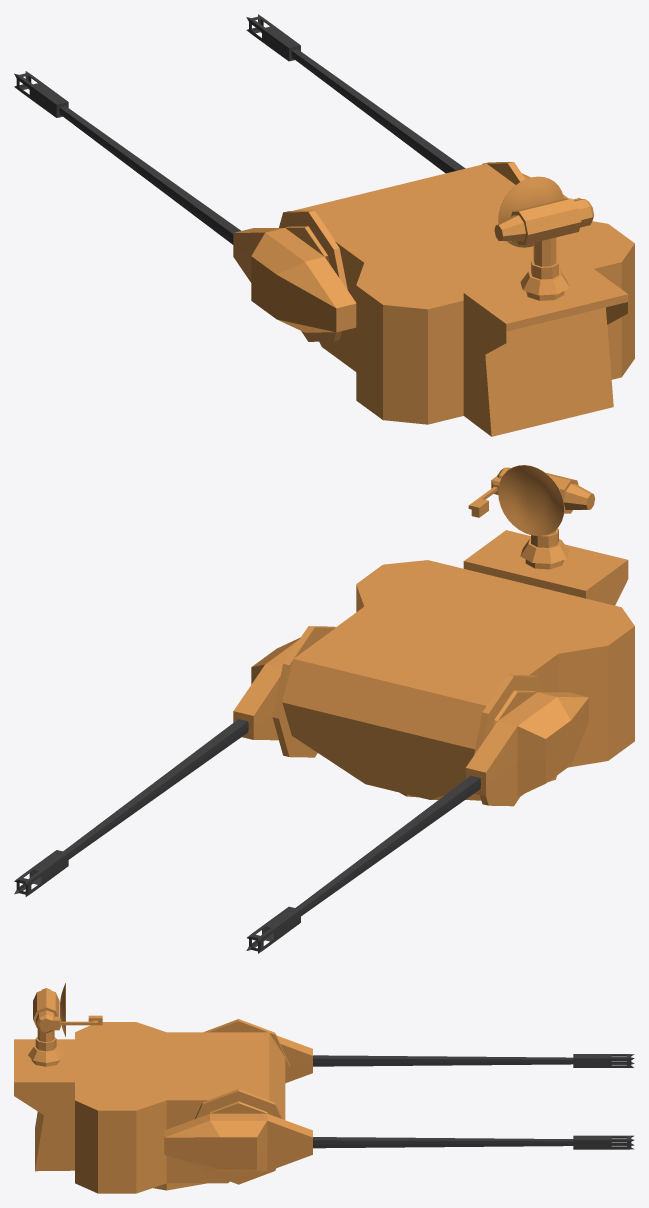
File: turret.fbx
The picture shows the model from 3 angles, top to bottom: view 1: azimuth 30°, elevation 25°; view 2: azimuth 150°, elevation 25°; view 3: azimuth 270°, elevation 25°; orthographic projection. The views are drawn at different scales.
Visible parts, largest first — view 1: TurretMesh, Cannons, Dish, Mast; view 2: TurretMesh, Cannons, Dish, Mast; view 3: TurretMesh, Cannons, Dish, Mast.
Part boxes in pixels (bbox=[...]): TurretMesh: bbox=[293, 163, 634, 436]; Cannons: bbox=[14, 14, 530, 341]; Dish: bbox=[494, 176, 593, 247]; Mast: bbox=[520, 237, 569, 300]; TurretMesh: bbox=[282, 530, 634, 799]; Cannons: bbox=[14, 626, 588, 953]; Dish: bbox=[468, 465, 594, 535]; Mast: bbox=[520, 528, 569, 569]; TurretMesh: bbox=[14, 1022, 285, 1193]; Cannons: bbox=[164, 1019, 634, 1184]; Dish: bbox=[33, 982, 102, 1036]; Mast: bbox=[28, 1028, 64, 1066].
Size of the model in its own units: 160 by 125 by 407.
